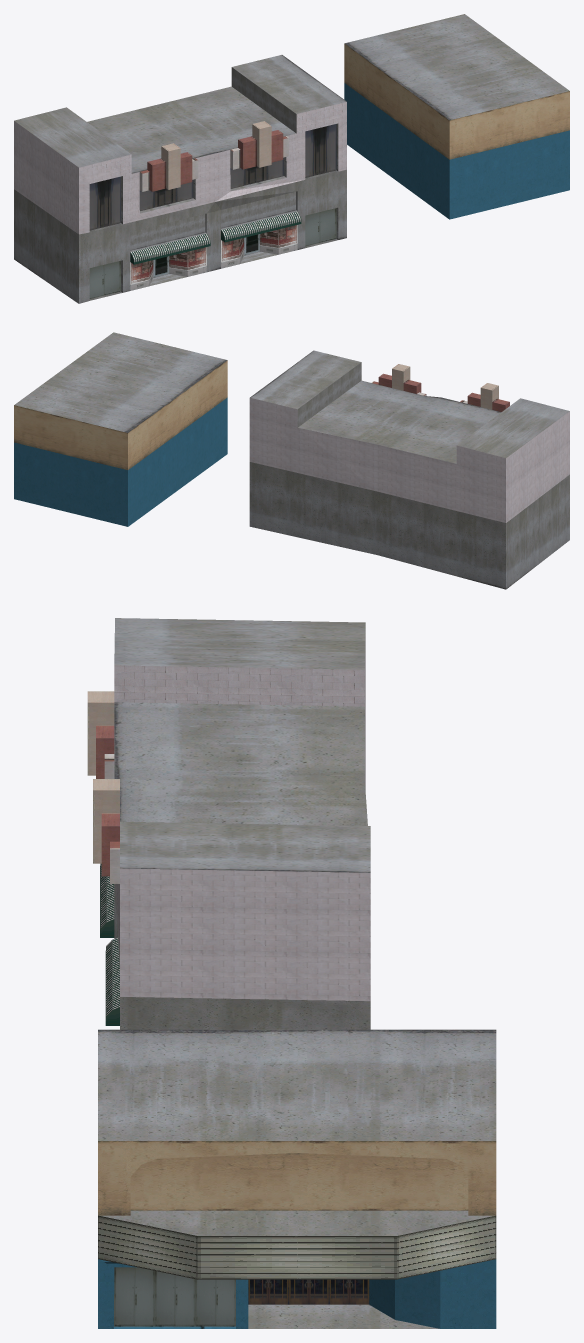
File: holbuild10_law.obj
3 views of the same model, one above another, from view 1: azimuth 30°, elevation 25°; view 2: azimuth 150°, elevation 25°; view 3: azimuth 270°, elevation 25° (orthographic). The views are drawn at different scales.
Visible parts, largest first — view 1: holbuild10_law; view 2: holbuild10_law; view 3: holbuild10_law.
Boxes of the visible parts, bbox=[...] form: holbuild10_law: bbox=[14, 14, 569, 303]; holbuild10_law: bbox=[14, 332, 569, 589]; holbuild10_law: bbox=[87, 618, 496, 1328].
Bounding box in the file's own units: 38.98 × 10.39 × 14.33.
